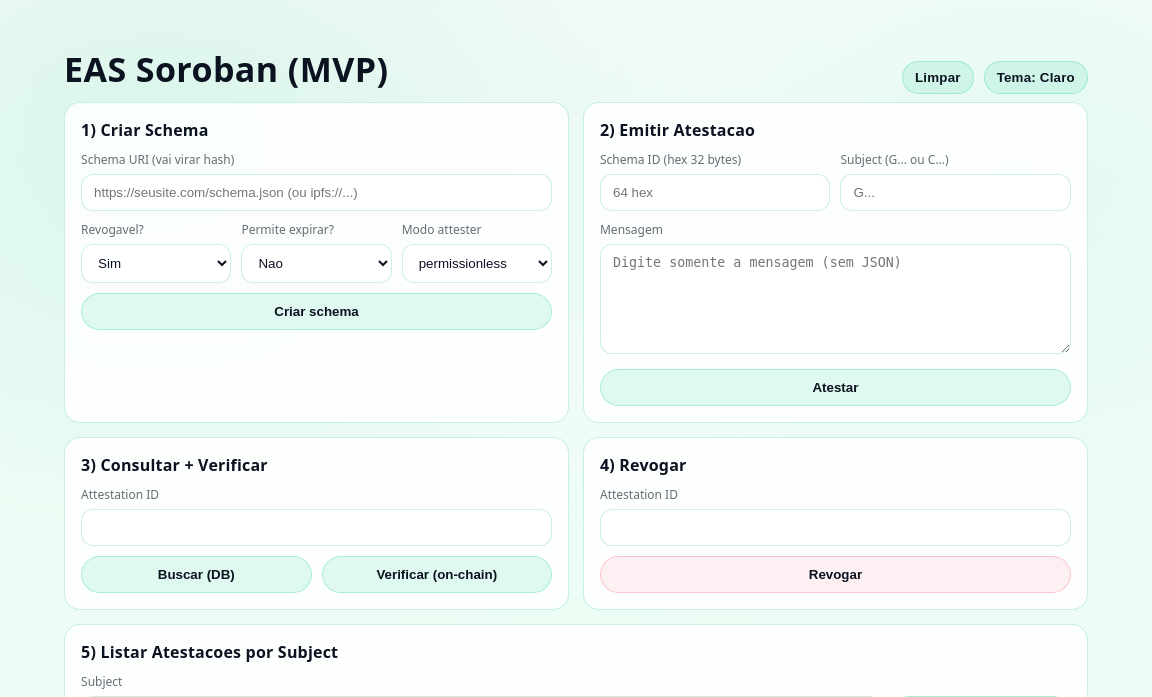
Test: <App /> › creates a schema and shows the response
This screenshot has width=1152, height=697.
In the field labelled "Schema URI (vai virar hash)": (317, 192) [81,174,552,211], type "https://example.com/schema.json"
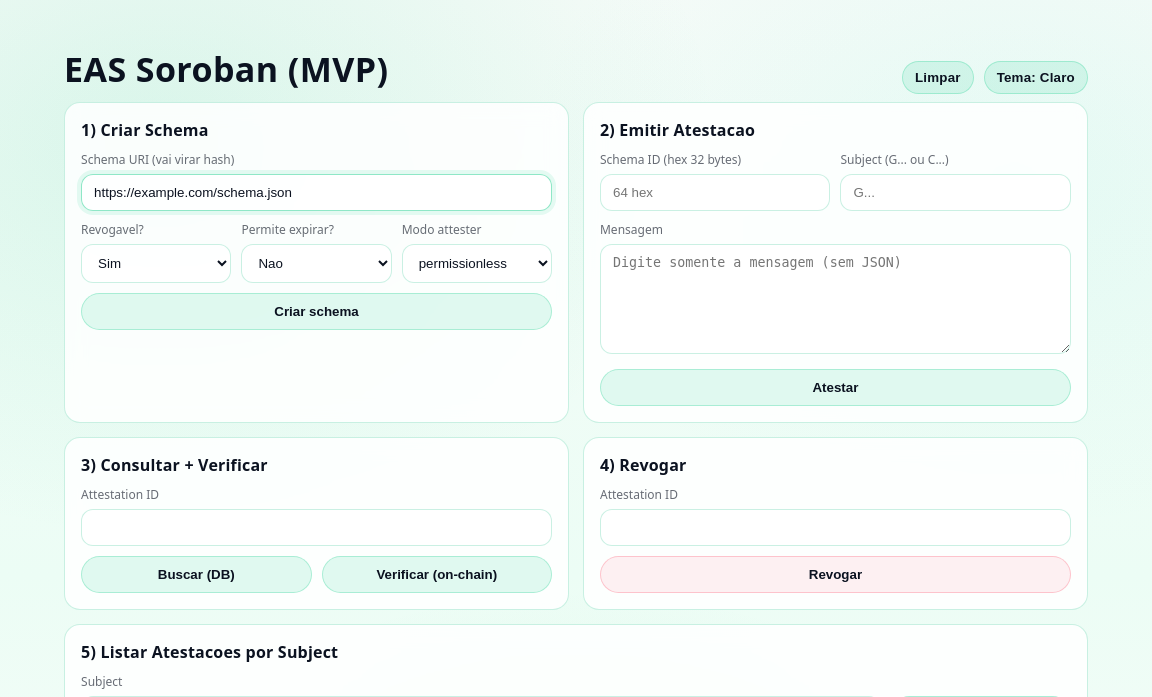
Click the button "Criar schema": click(317, 312) [81,293,552,330]
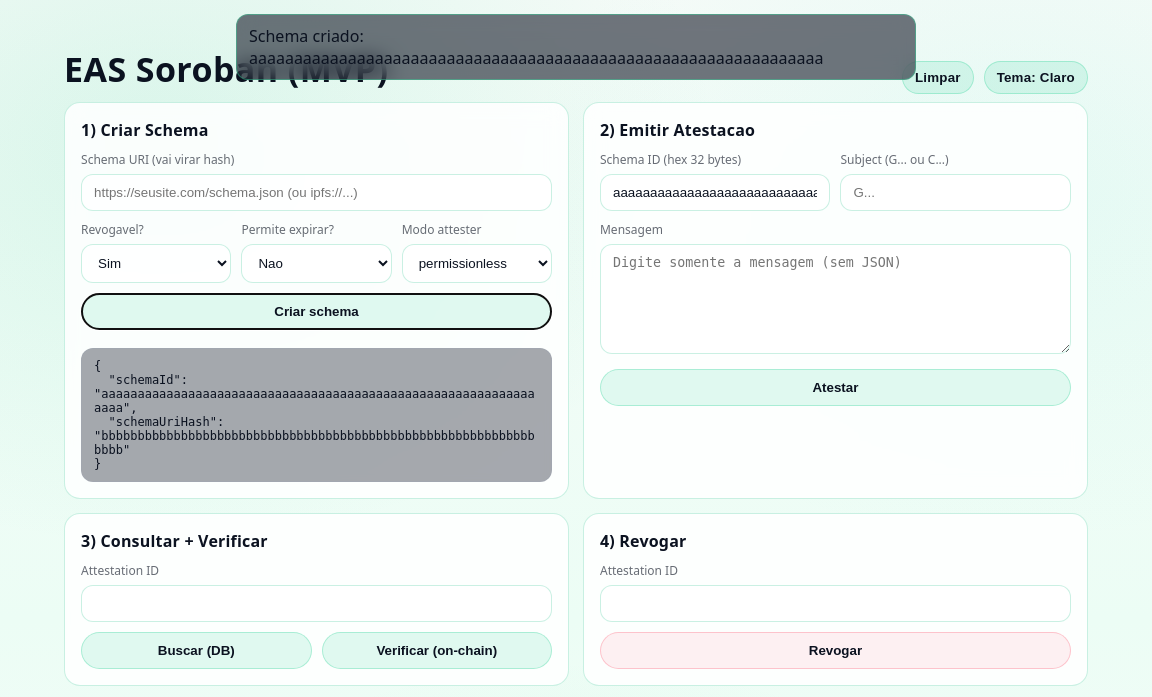
expect the text "Schema criado:" is shown: met, box [249,25,824,69]
expect the text "\"schemaId\":" is shown: met, box [94,359,535,471]
